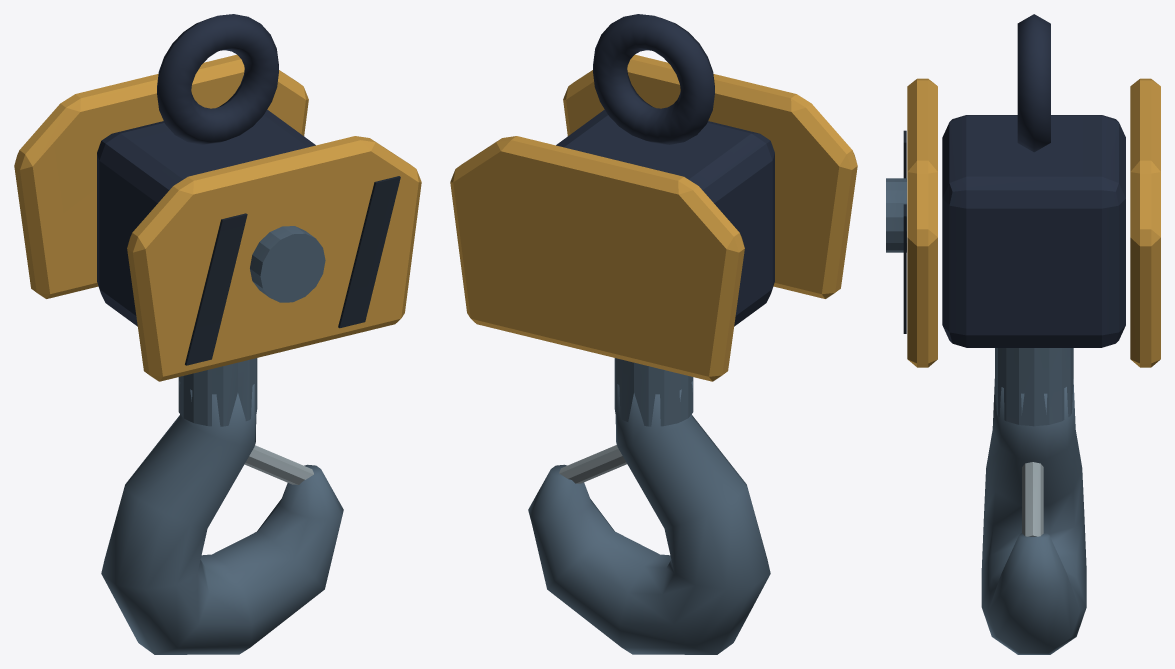
The model's file is crane-hook.glb.
3 renders of one model, left to right at view 1: azimuth 30°, elevation 25°; view 2: azimuth 150°, elevation 25°; view 3: azimuth 270°, elevation 25°, orthographic.
Parts seen in each view (by area): view 1: crane-hook; view 2: crane-hook; view 3: crane-hook.
Part boxes in pixels (<box>): crane-hook: <box>14,14,421,654</box>; crane-hook: <box>450,14,857,654</box>; crane-hook: <box>886,14,1160,654</box>.
Bounding box in the file's own units: 0.7539 × 1.59 × 0.629.
